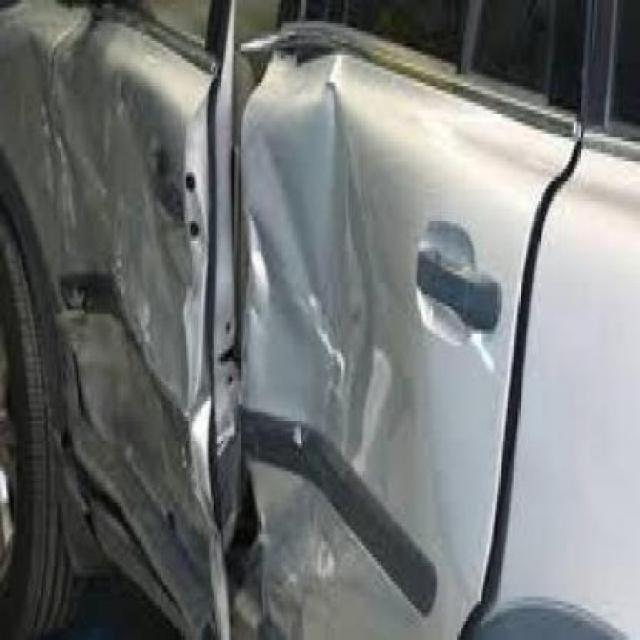damage: (0, 7, 394, 640)
